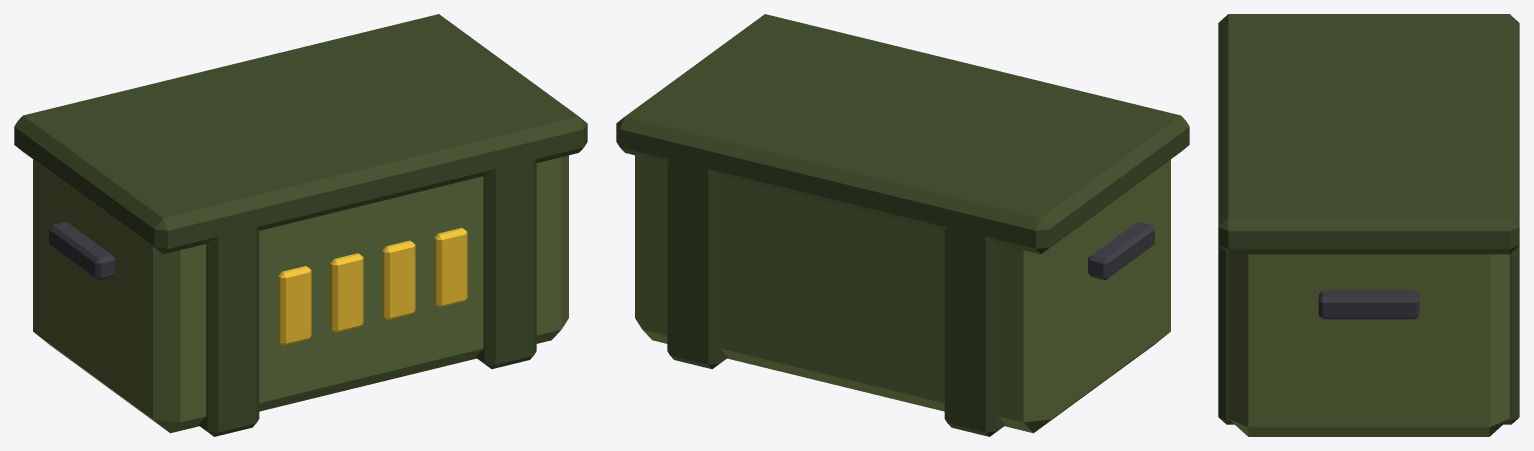
File: AmmoCrate.fbx
The picture shows the model from 3 angles, left to right: view 1: azimuth 30°, elevation 25°; view 2: azimuth 150°, elevation 25°; view 3: azimuth 270°, elevation 25°; orthographic projection.
Parts seen in each view (by area): view 1: AmmoCrate; view 2: AmmoCrate; view 3: AmmoCrate.
Part boxes in pixels (bbox=[...]): AmmoCrate: bbox=[14, 14, 587, 436]; AmmoCrate: bbox=[616, 14, 1189, 436]; AmmoCrate: bbox=[1218, 14, 1519, 436].
Bounding box in the file's own units: 2.64 × 1.27 × 1.5.
Materials: 1 (1 with a texture image).
